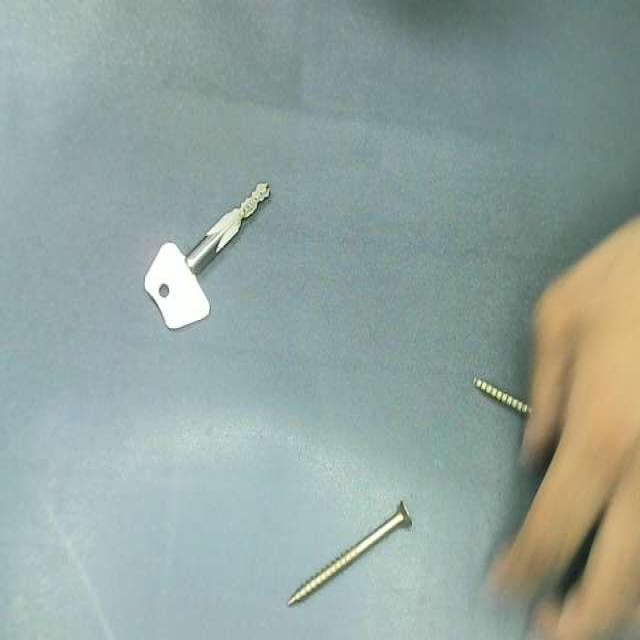Parafuso: (287, 502, 411, 606), (473, 378, 529, 415)
